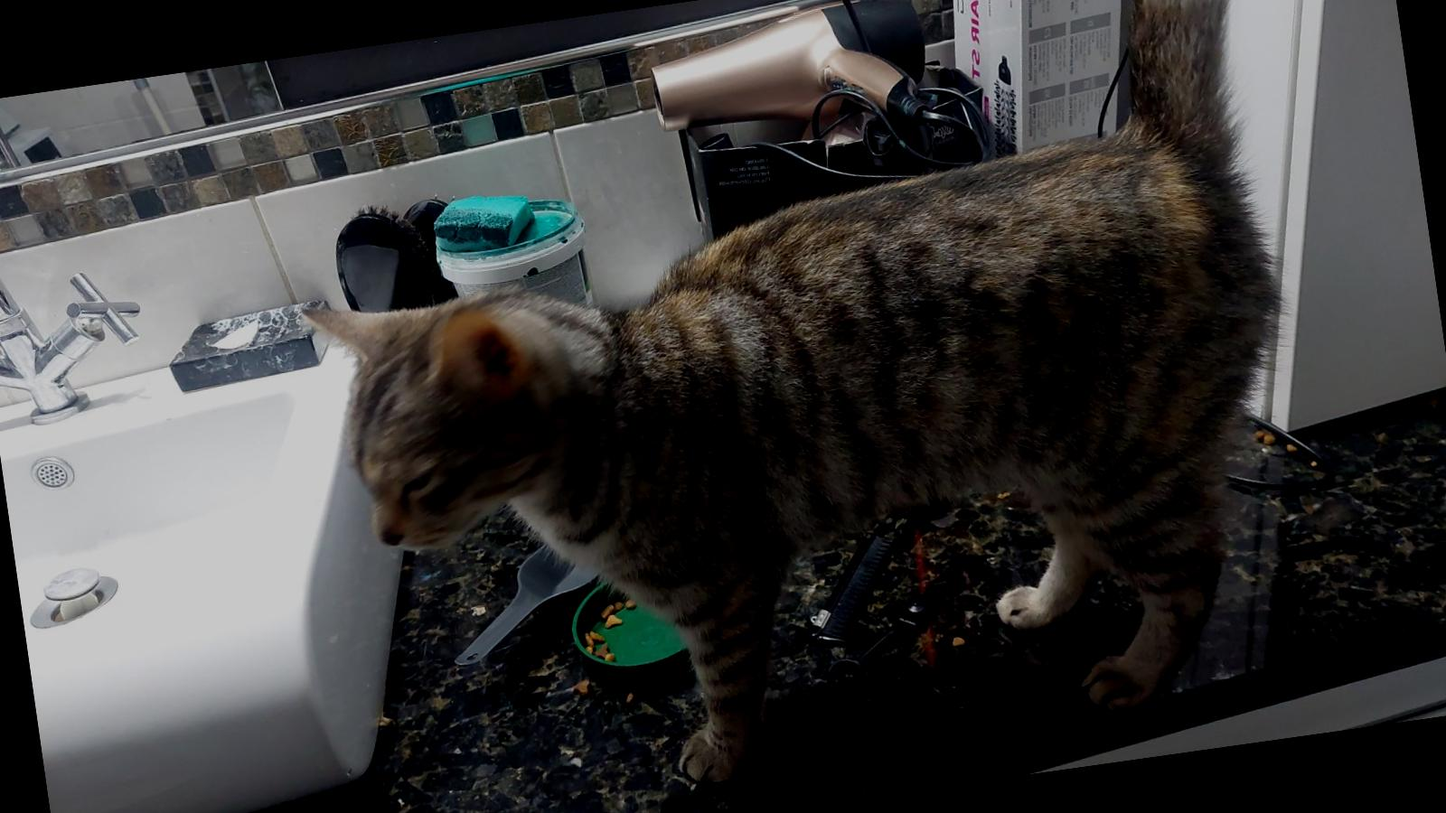macka: (259, 0, 1347, 813)
